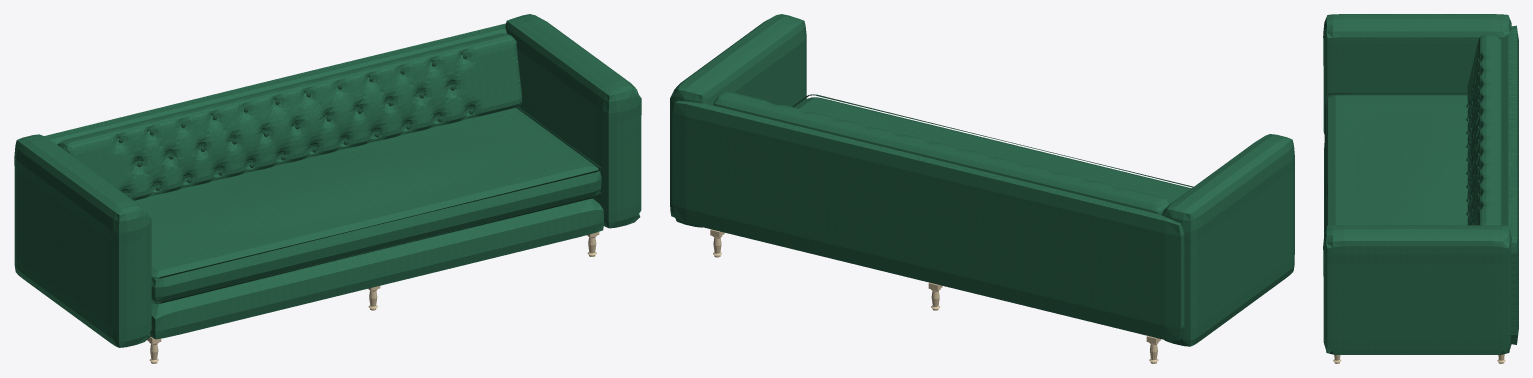
The model's file is FET-SOF-4-seat.glb.
The picture shows the model from 3 angles, left to right: view 1: azimuth 30°, elevation 25°; view 2: azimuth 150°, elevation 25°; view 3: azimuth 270°, elevation 25°; orthographic projection. The views are drawn at different scales.
Visible parts, largest first — view 1: seat:fabric:eyJwcmVzZXQiOiJ2ZWx2ZXQiLCJ3YXJwIjoiZW1lcmFsZCIs, inside-back:fabric:eyJwcmVzZXQiOiJ2ZWx2ZXQiLCJ3YXJwIjoiZW1lc, arm-pad-l:fabric:eyJwcmVzZXQiOiJ2ZWx2ZXQiLCJ3YXJwIjoiZW1lcmF, deck:fabric:eyJwcmVzZXQiOiJ2ZWx2ZXQiLCJ3YXJwIjoiZW1lcmFsZCIs, arm-pad-r:fabric:eyJwcmVzZXQiOiJ2ZWx2ZXQiLCJ3YXJwIjoiZW1lcmF, back-pad:fabric:eyJwcmVzZXQiOiJ2ZWx2ZXQiLCJ3YXJwIjoiZW1lcmFs, seat:piping:pbr, inside-back:buttons:pbr; view 2: back-pad:fabric:eyJwcmVzZXQiOiJ2ZWx2ZXQiLCJ3YXJwIjoiZW1lcmFs, arm-pad-l:fabric:eyJwcmVzZXQiOiJ2ZWx2ZXQiLCJ3YXJwIjoiZW1lcmF, arm-pad-r:fabric:eyJwcmVzZXQiOiJ2ZWx2ZXQiLCJ3YXJwIjoiZW1lcmF, inside-back:fabric:eyJwcmVzZXQiOiJ2ZWx2ZXQiLCJ3YXJwIjoiZW1lc, seat:fabric:eyJwcmVzZXQiOiJ2ZWx2ZXQiLCJ3YXJwIjoiZW1lcmFsZCIs, seat:piping:pbr; view 3: arm-pad-r:fabric:eyJwcmVzZXQiOiJ2ZWx2ZXQiLCJ3YXJwIjoiZW1lcmF, seat:fabric:eyJwcmVzZXQiOiJ2ZWx2ZXQiLCJ3YXJwIjoiZW1lcmFsZCIs, arm-pad-l:fabric:eyJwcmVzZXQiOiJ2ZWx2ZXQiLCJ3YXJwIjoiZW1lcmF, inside-back:fabric:eyJwcmVzZXQiOiJ2ZWx2ZXQiLCJ3YXJwIjoiZW1lc, back-pad:fabric:eyJwcmVzZXQiOiJ2ZWx2ZXQiLCJ3YXJwIjoiZW1lcmFs, seat:piping:pbr, inside-back:buttons:pbr.
Boxes of the visible parts, bbox=[...] form: seat:fabric:eyJwcmVzZXQiOiJ2ZWx2ZXQiLCJ3YXJwIjoiZW1lcmFsZCIs: bbox=[134, 107, 601, 302]; inside-back:fabric:eyJwcmVzZXQiOiJ2ZWx2ZXQiLCJ3YXJwIjoiZW1lc: bbox=[57, 33, 522, 200]; arm-pad-l:fabric:eyJwcmVzZXQiOiJ2ZWx2ZXQiLCJ3YXJwIjoiZW1lcmF: bbox=[14, 134, 151, 347]; deck:fabric:eyJwcmVzZXQiOiJ2ZWx2ZXQiLCJ3YXJwIjoiZW1lcmFsZCIs: bbox=[149, 198, 603, 339]; arm-pad-r:fabric:eyJwcmVzZXQiOiJ2ZWx2ZXQiLCJ3YXJwIjoiZW1lcmF: bbox=[505, 14, 641, 228]; back-pad:fabric:eyJwcmVzZXQiOiJ2ZWx2ZXQiLCJ3YXJwIjoiZW1lcmFs: bbox=[44, 23, 506, 144]; seat:piping:pbr: bbox=[151, 106, 601, 303]; inside-back:buttons:pbr: bbox=[118, 54, 473, 196]; back-pad:fabric:eyJwcmVzZXQiOiJ2ZWx2ZXQiLCJ3YXJwIjoiZW1lcmFs: bbox=[672, 100, 1184, 340]; arm-pad-l:fabric:eyJwcmVzZXQiOiJ2ZWx2ZXQiLCJ3YXJwIjoiZW1lcmF: bbox=[1160, 134, 1294, 346]; arm-pad-r:fabric:eyJwcmVzZXQiOiJ2ZWx2ZXQiLCJ3YXJwIjoiZW1lcmF: bbox=[670, 14, 806, 227]; inside-back:fabric:eyJwcmVzZXQiOiJ2ZWx2ZXQiLCJ3YXJwIjoiZW1lc: bbox=[713, 91, 1170, 214]; seat:fabric:eyJwcmVzZXQiOiJ2ZWx2ZXQiLCJ3YXJwIjoiZW1lcmFsZCIs: bbox=[795, 97, 1191, 203]; seat:piping:pbr: bbox=[792, 94, 1193, 187]; arm-pad-r:fabric:eyJwcmVzZXQiOiJ2ZWx2ZXQiLCJ3YXJwIjoiZW1lcmF: bbox=[1323, 225, 1511, 354]; seat:fabric:eyJwcmVzZXQiOiJ2ZWx2ZXQiLCJ3YXJwIjoiZW1lcmFsZCIs: bbox=[1324, 95, 1468, 233]; arm-pad-l:fabric:eyJwcmVzZXQiOiJ2ZWx2ZXQiLCJ3YXJwIjoiZW1lcmF: bbox=[1323, 14, 1511, 134]; inside-back:fabric:eyJwcmVzZXQiOiJ2ZWx2ZXQiLCJ3YXJwIjoiZW1lc: bbox=[1467, 34, 1501, 225]; back-pad:fabric:eyJwcmVzZXQiOiJ2ZWx2ZXQiLCJ3YXJwIjoiZW1lcmFs: bbox=[1501, 25, 1518, 344]; seat:piping:pbr: bbox=[1326, 93, 1467, 227]; inside-back:buttons:pbr: bbox=[1466, 58, 1478, 225].
Size of the model in its own units: 2.6 by 0.78 by 0.95.
Materials: 14 (6 with a texture image).
